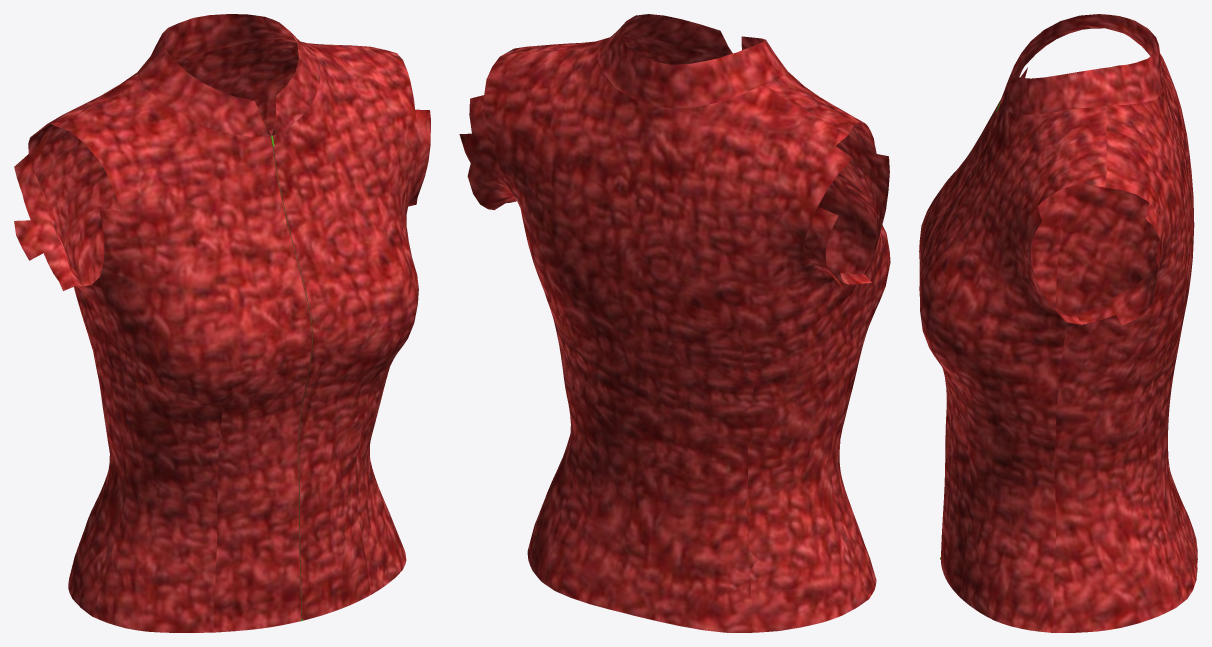
The model's file is Red Jacket.fbx.
3 views of the same model, side by side, from view 1: azimuth 30°, elevation 25°; view 2: azimuth 150°, elevation 25°; view 3: azimuth 270°, elevation 25° (orthographic). The views are drawn at different scales.
Visible parts, largest first — view 1: Jacket_; view 2: Jacket_; view 3: Jacket_.
Boxes of the visible parts, bbox=[...] form: Jacket_: bbox=[14, 14, 430, 632]; Jacket_: bbox=[459, 14, 890, 632]; Jacket_: bbox=[919, 14, 1197, 632].
Bounding box in the file's own units: 13.46 × 18.26 × 8.89.
Materials: 3 (2 with a texture image).
